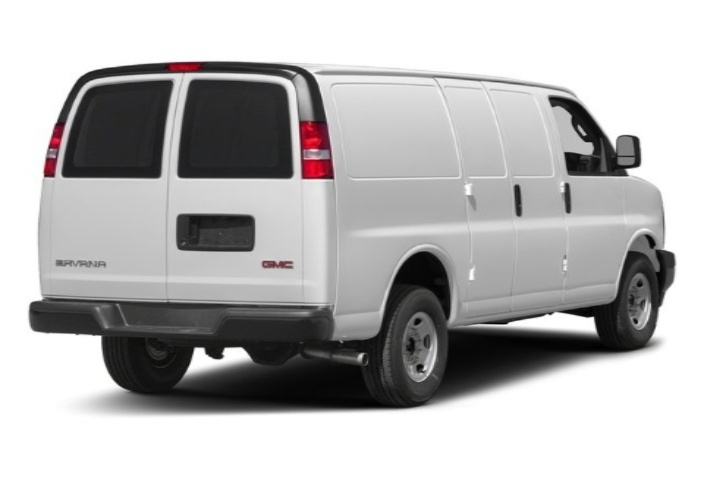van: (45, 50, 683, 415)
